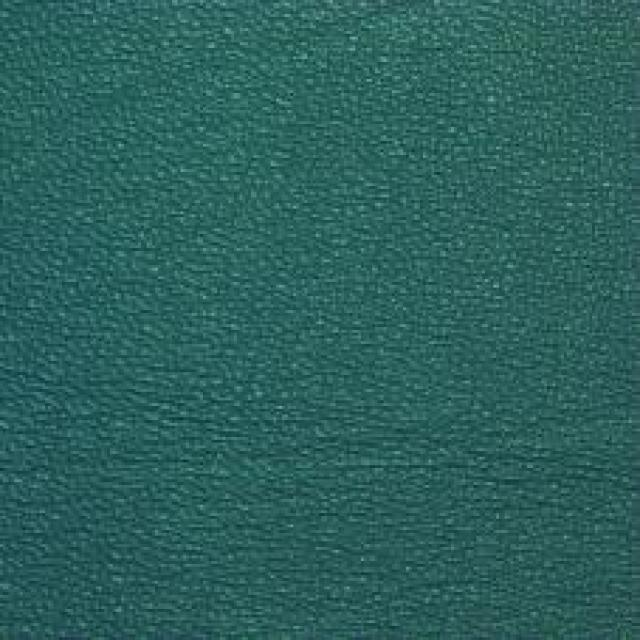Growth Marks: (105, 416, 570, 512)
